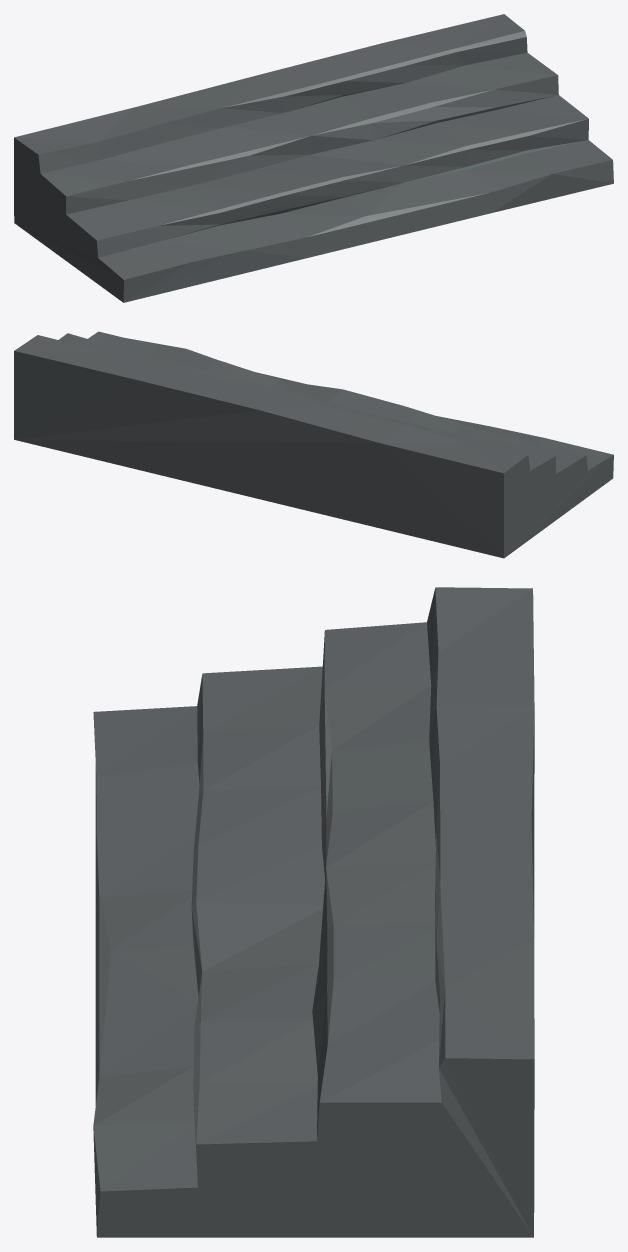
File: MCastle_Steps_00.FBX
3 views of the same model, one above another, from view 1: azimuth 30°, elevation 25°; view 2: azimuth 150°, elevation 25°; view 3: azimuth 270°, elevation 25° (orthographic). The views are drawn at different scales.
Parts seen in each view (by area): view 1: MCastle_Steps_00_LOD0; view 2: MCastle_Steps_00_LOD0; view 3: MCastle_Steps_00_LOD0.
Boxes of the visible parts, x1,y1,x2,y2 form: MCastle_Steps_00_LOD0: (14, 14, 613, 302); MCastle_Steps_00_LOD0: (14, 331, 613, 558); MCastle_Steps_00_LOD0: (93, 587, 534, 1237).
Size of what is drawn, in the model's own units: 4.01 by 0.7027 by 1.56.
